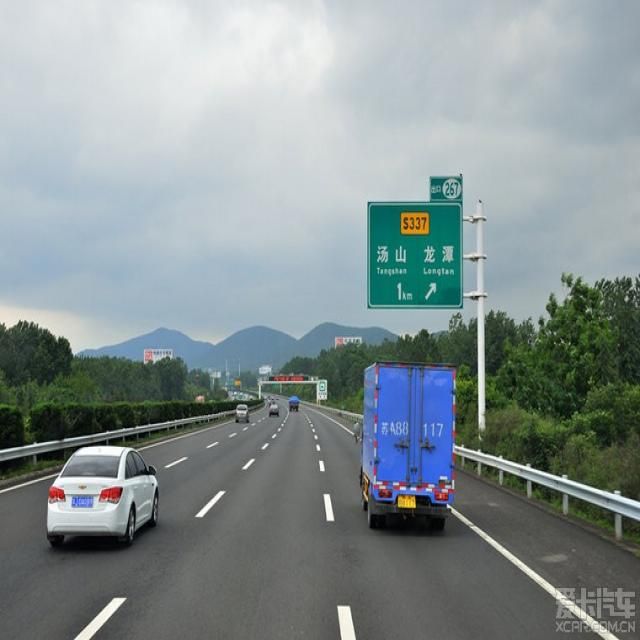point: (228, 353, 331, 444)
